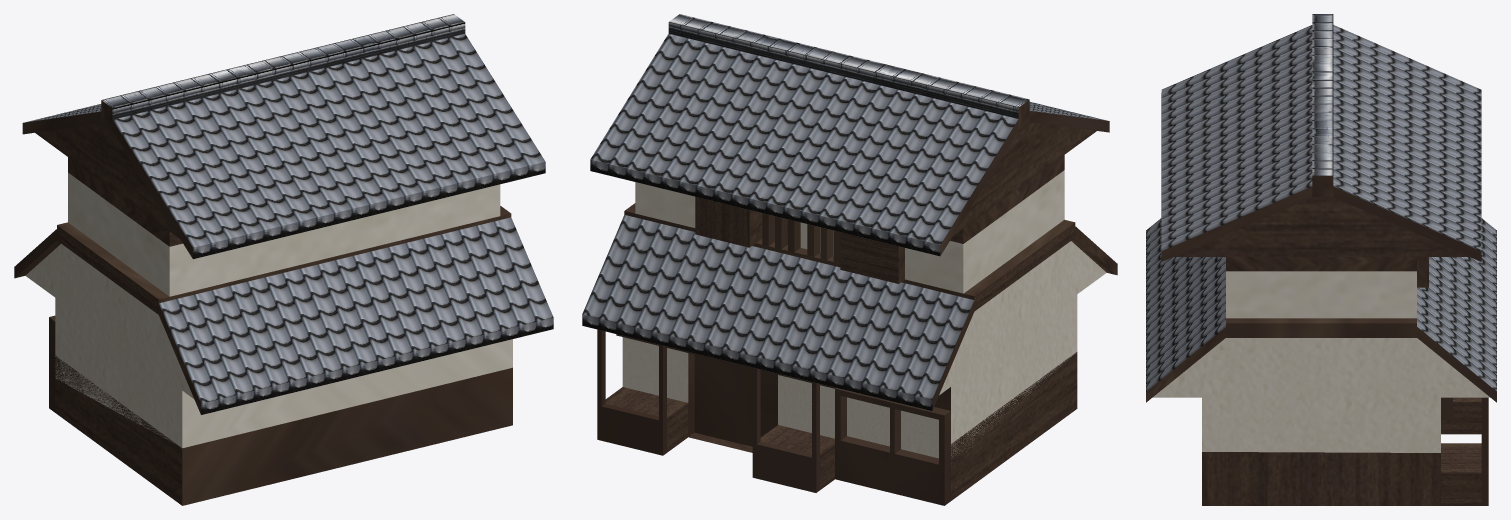
Rendered from shoka_２.fbx.
3 views of the same model, side by side, from view 1: azimuth 30°, elevation 25°; view 2: azimuth 150°, elevation 25°; view 3: azimuth 270°, elevation 25° (orthographic). The views are drawn at different scales.
Parts seen in each view (by area): view 1: 立方体; view 2: 立方体; view 3: 立方体.
Boxes of the visible parts, x1,y1,x2,y2 form: 立方体: [14, 14, 553, 505]; 立方体: [582, 14, 1117, 505]; 立方体: [1146, 14, 1496, 505].
Bounding box in the file's own units: 32.01 × 31 × 29.37.
3 materials, 3 textured.
